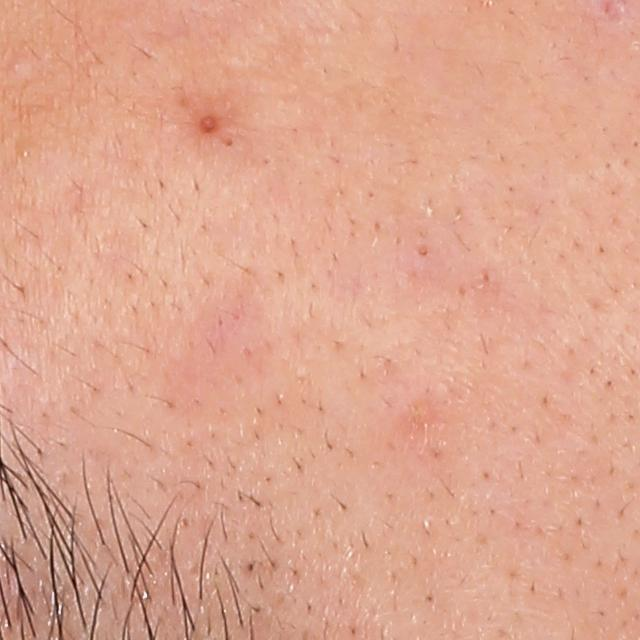comedo: (199, 110, 222, 135), (18, 144, 34, 159)
